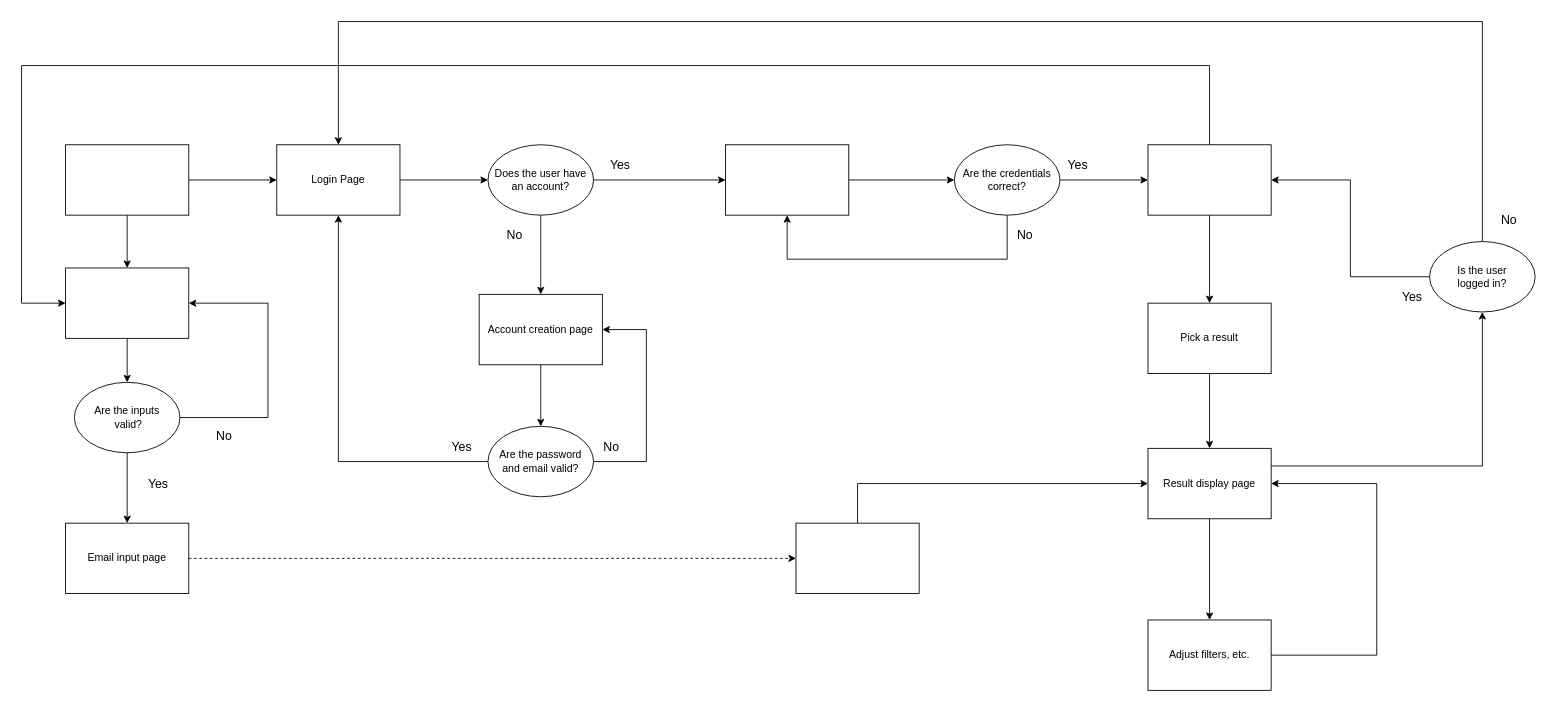
This 1551x706 diagram has some shape labels left out. Each missing label, with the centre of its shape:
"Enter a query, parameters and filters to search for" belongs at (x=127, y=302).
"Homepage" belongs at (x=127, y=179).
"Input username / email and password" belongs at (x=787, y=179).
"Profile page (previous results)" belongs at (x=1209, y=179).
"Result page link in email" belongs at (x=857, y=558).
